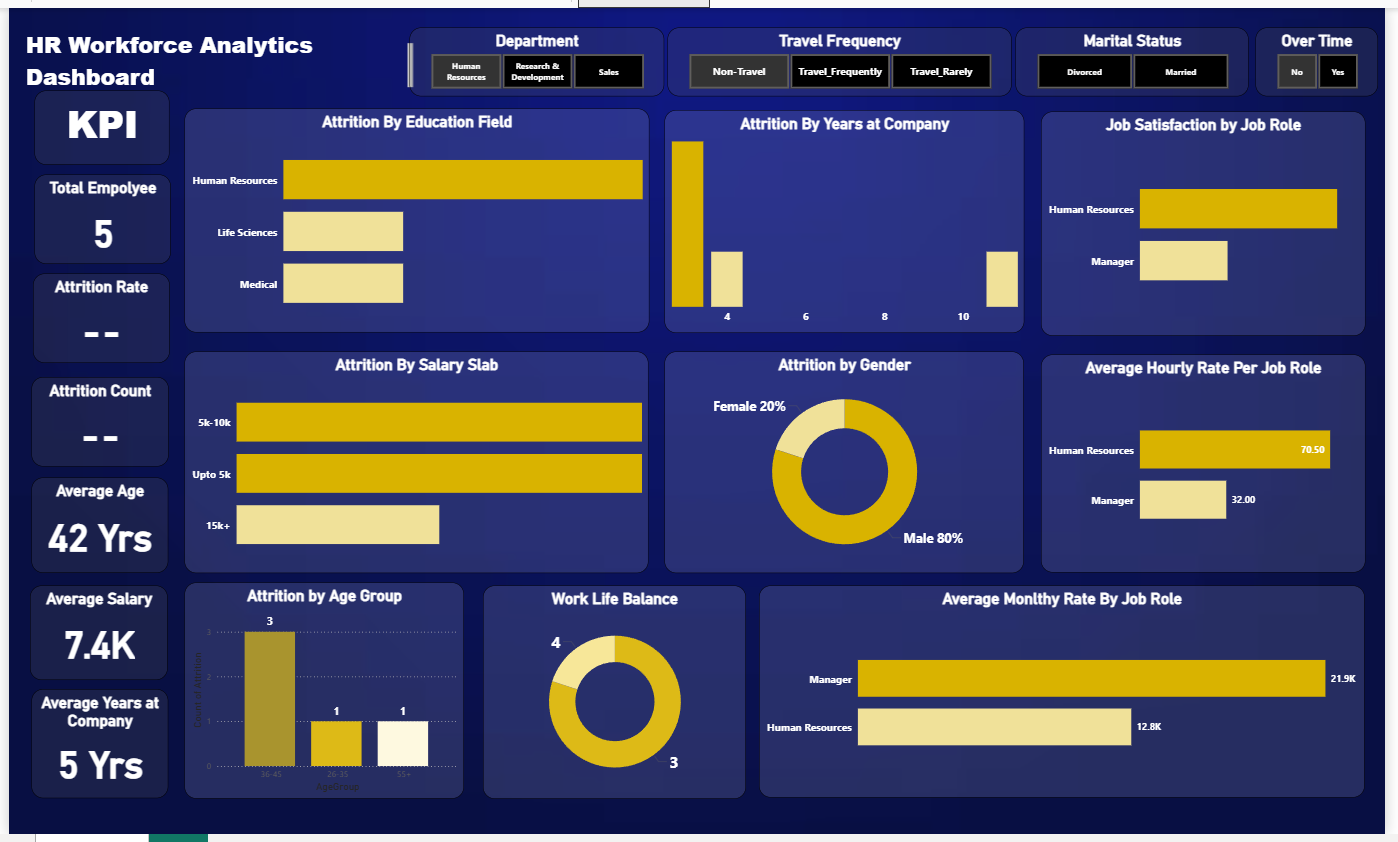

Layout of this report page (visuals, bound fields, positions):
{"tool":"powerbi","page":{"name":"Page 1","canvas":[2000,1200],"ordinal":0},"visuals":[{"type":"card","title":"Total Empolyee","fields":{"Values":["HR_Analytics.Total Employee Count"]},"box":[36,242,198,130],"z":0},{"type":"cardVisual","title":"Attrition Rate","fields":{"Data":["HR_Analytics.Attrition Rate"]},"box":[34.3,385.1,198.3,130],"z":1000},{"type":"textbox","box":[20,36,572,86],"z":2000},{"type":"cardVisual","title":"Attrition Count","fields":{"Data":["HR_Analytics.Attrition Count"]},"box":[33.5,535.5,199,130],"z":3000},{"type":"cardVisual","title":"Average Age","fields":{"Data":["HR_Analytics.Avg_Age"]},"box":[33.3,682.5,198.3,138.3],"z":4000},{"type":"cardVisual","title":"Average Salary","fields":{"Data":["HR_Analytics.Avg_Salary"]},"box":[31.3,839.4,200,137.5],"z":5000},{"type":"cardVisual","title":"Average Years at Company","fields":{"Data":["HR_Analytics.Avg_years"]},"box":[33.4,989.7,198.8,158.8],"z":6000},{"type":"clusteredBarChart","title":"Attrition By Education Field","fields":{"Category":["HR_Analytics.EducationField"],"Y":["CountNonNull(HR_Analytics.Attrition)"]},"box":[255,145,675,325],"z":7000},{"type":"clusteredBarChart","title":"Attrition By Salary Slab","fields":{"Category":["HR_Analytics.SalarySlab"],"Y":["CountNonNull(HR_Analytics.Attrition)"]},"box":[256,498,674,322],"z":8000},{"type":"textbox","box":[36,120,196,108],"z":9000},{"type":"clusteredColumnChart","title":"Attrition by Age Group","fields":{"Category":["HR_Analytics.AgeGroup"],"Y":["CountNonNull(HR_Analytics.Attrition)"]},"box":[256,834,406,314],"z":10000},{"type":"clusteredColumnChart","title":"Attrition By Years at Company","fields":{"Category":["HR_Analytics.YearsAtCompany"],"Y":["CountNonNull(HR_Analytics.Attrition)"]},"box":[952.9,147.1,522.9,324.3],"z":11000},{"type":"donutChart","title":"Attrition by Gender","fields":{"Category":["HR_Analytics.Gender"],"Y":["CountNonNull(HR_Analytics.Attrition)"]},"box":[952,498,522,322],"z":12000},{"type":"clusteredBarChart","title":"Job Satisfaction by Job Role","fields":{"Category":["HR_Analytics.JobRole"],"Y":["Sum(HR_Analytics.JobSatisfaction)"]},"box":[1500,151.4,471.4,325.7],"z":13000},{"type":"slicer","title":"Department","fields":{"Values":["HR_Analytics.Department"]},"box":[581.7,28.3,370,100],"z":14000},{"type":"slicer","title":"Travel Frequency","fields":{"Values":["HR_Analytics.BusinessTravel"]},"box":[956.7,28.3,500,100],"z":15000},{"type":"slicer","title":"Marital Status","fields":{"Values":["HR_Analytics.MaritalStatus"]},"box":[1461.2,28.8,338.8,100],"z":16000},{"type":"slicer","title":"Over Time","fields":{"Values":["HR_Analytics.OverTime"]},"box":[1810,29,178,100],"z":17000},{"type":"barChart","title":"Average Hourly Rate Per Job Role","fields":{"Category":["HR_Analytics.JobRole"],"Y":["Avg(HR_Analytics.HourlyRate)"]},"box":[1498.9,504.4,471.1,316.7],"z":18000},{"type":"donutChart","title":"Work Life Balance","fields":{"Category":["HR_Analytics.WorkLifeBalance"],"Y":["HR_Analytics.Total Employee Count"]},"box":[688,838,382,310],"z":19000},{"type":"clusteredBarChart","title":"Average Monlthy Rate By Job Role","fields":{"Category":["HR_Analytics.JobRole"],"Y":["Avg(HR_Analytics.MonthlyRate)"]},"box":[1090,840,880,308],"z":20000}]}

Visuals, with their boxes in screenshot pixels (x1, y1, x2, y2), scaled from the page's 2000x1200 canvas onto the 1398x842 screenshot:
"Total Empolyee" card: [25,170,164,261]
"Attrition Rate" cardVisual: [24,270,163,361]
textbox: [14,25,414,86]
"Attrition Count" cardVisual: [23,376,163,467]
"Average Age" cardVisual: [23,479,162,576]
"Average Salary" cardVisual: [22,589,162,685]
"Average Years at Company" cardVisual: [23,694,162,806]
"Attrition By Education Field" clusteredBarChart: [178,102,650,330]
"Attrition By Salary Slab" clusteredBarChart: [179,349,650,575]
textbox: [25,84,162,160]
"Attrition by Age Group" clusteredColumnChart: [179,585,463,806]
"Attrition By Years at Company" clusteredColumnChart: [666,103,1032,331]
"Attrition by Gender" donutChart: [665,349,1030,575]
"Job Satisfaction by Job Role" clusteredBarChart: [1048,106,1378,335]
"Department" slicer: [407,20,665,90]
"Travel Frequency" slicer: [669,20,1018,90]
"Marital Status" slicer: [1021,20,1258,90]
"Over Time" slicer: [1265,20,1390,91]
"Average Hourly Rate Per Job Role" barChart: [1048,354,1377,576]
"Work Life Balance" donutChart: [481,588,748,806]
"Average Monlthy Rate By Job Role" clusteredBarChart: [762,589,1377,806]
